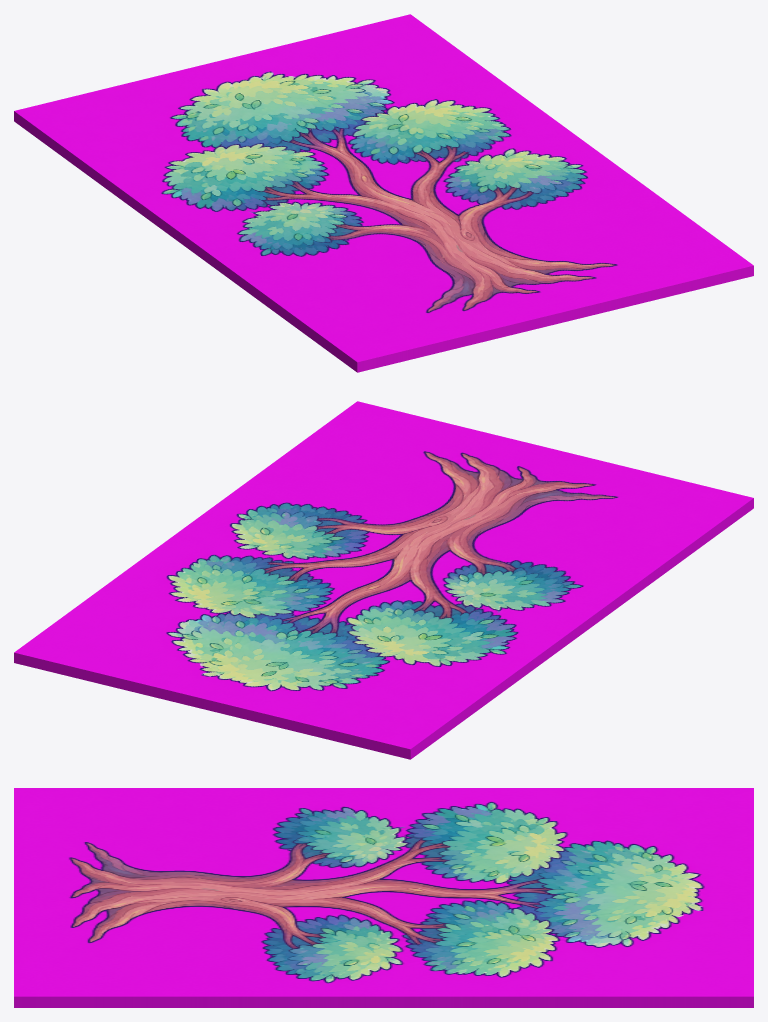
File: tree.glb
3 renders of one model, top to bottom at view 1: azimuth 30°, elevation 25°; view 2: azimuth 150°, elevation 25°; view 3: azimuth 270°, elevation 25°, orthographic. The views are drawn at different scales.
Visible parts, largest first — view 1: tree; view 2: tree; view 3: tree.
Part boxes in pixels (x1,y1,x2,y2): tree: (14,14,753,372); tree: (14,401,753,759); tree: (14,788,753,1007).
Bounding box in the file's own units: 2 × 0.05 × 3.
1 material, 1 textured.
